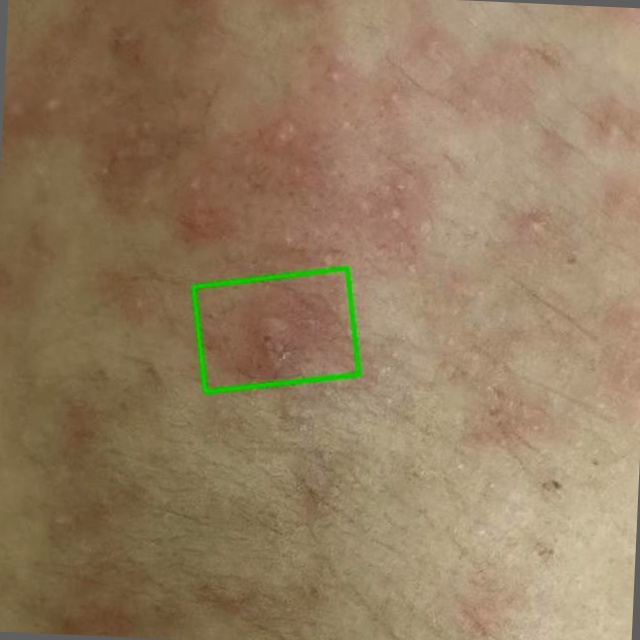Scabies: (193, 269, 359, 392)
